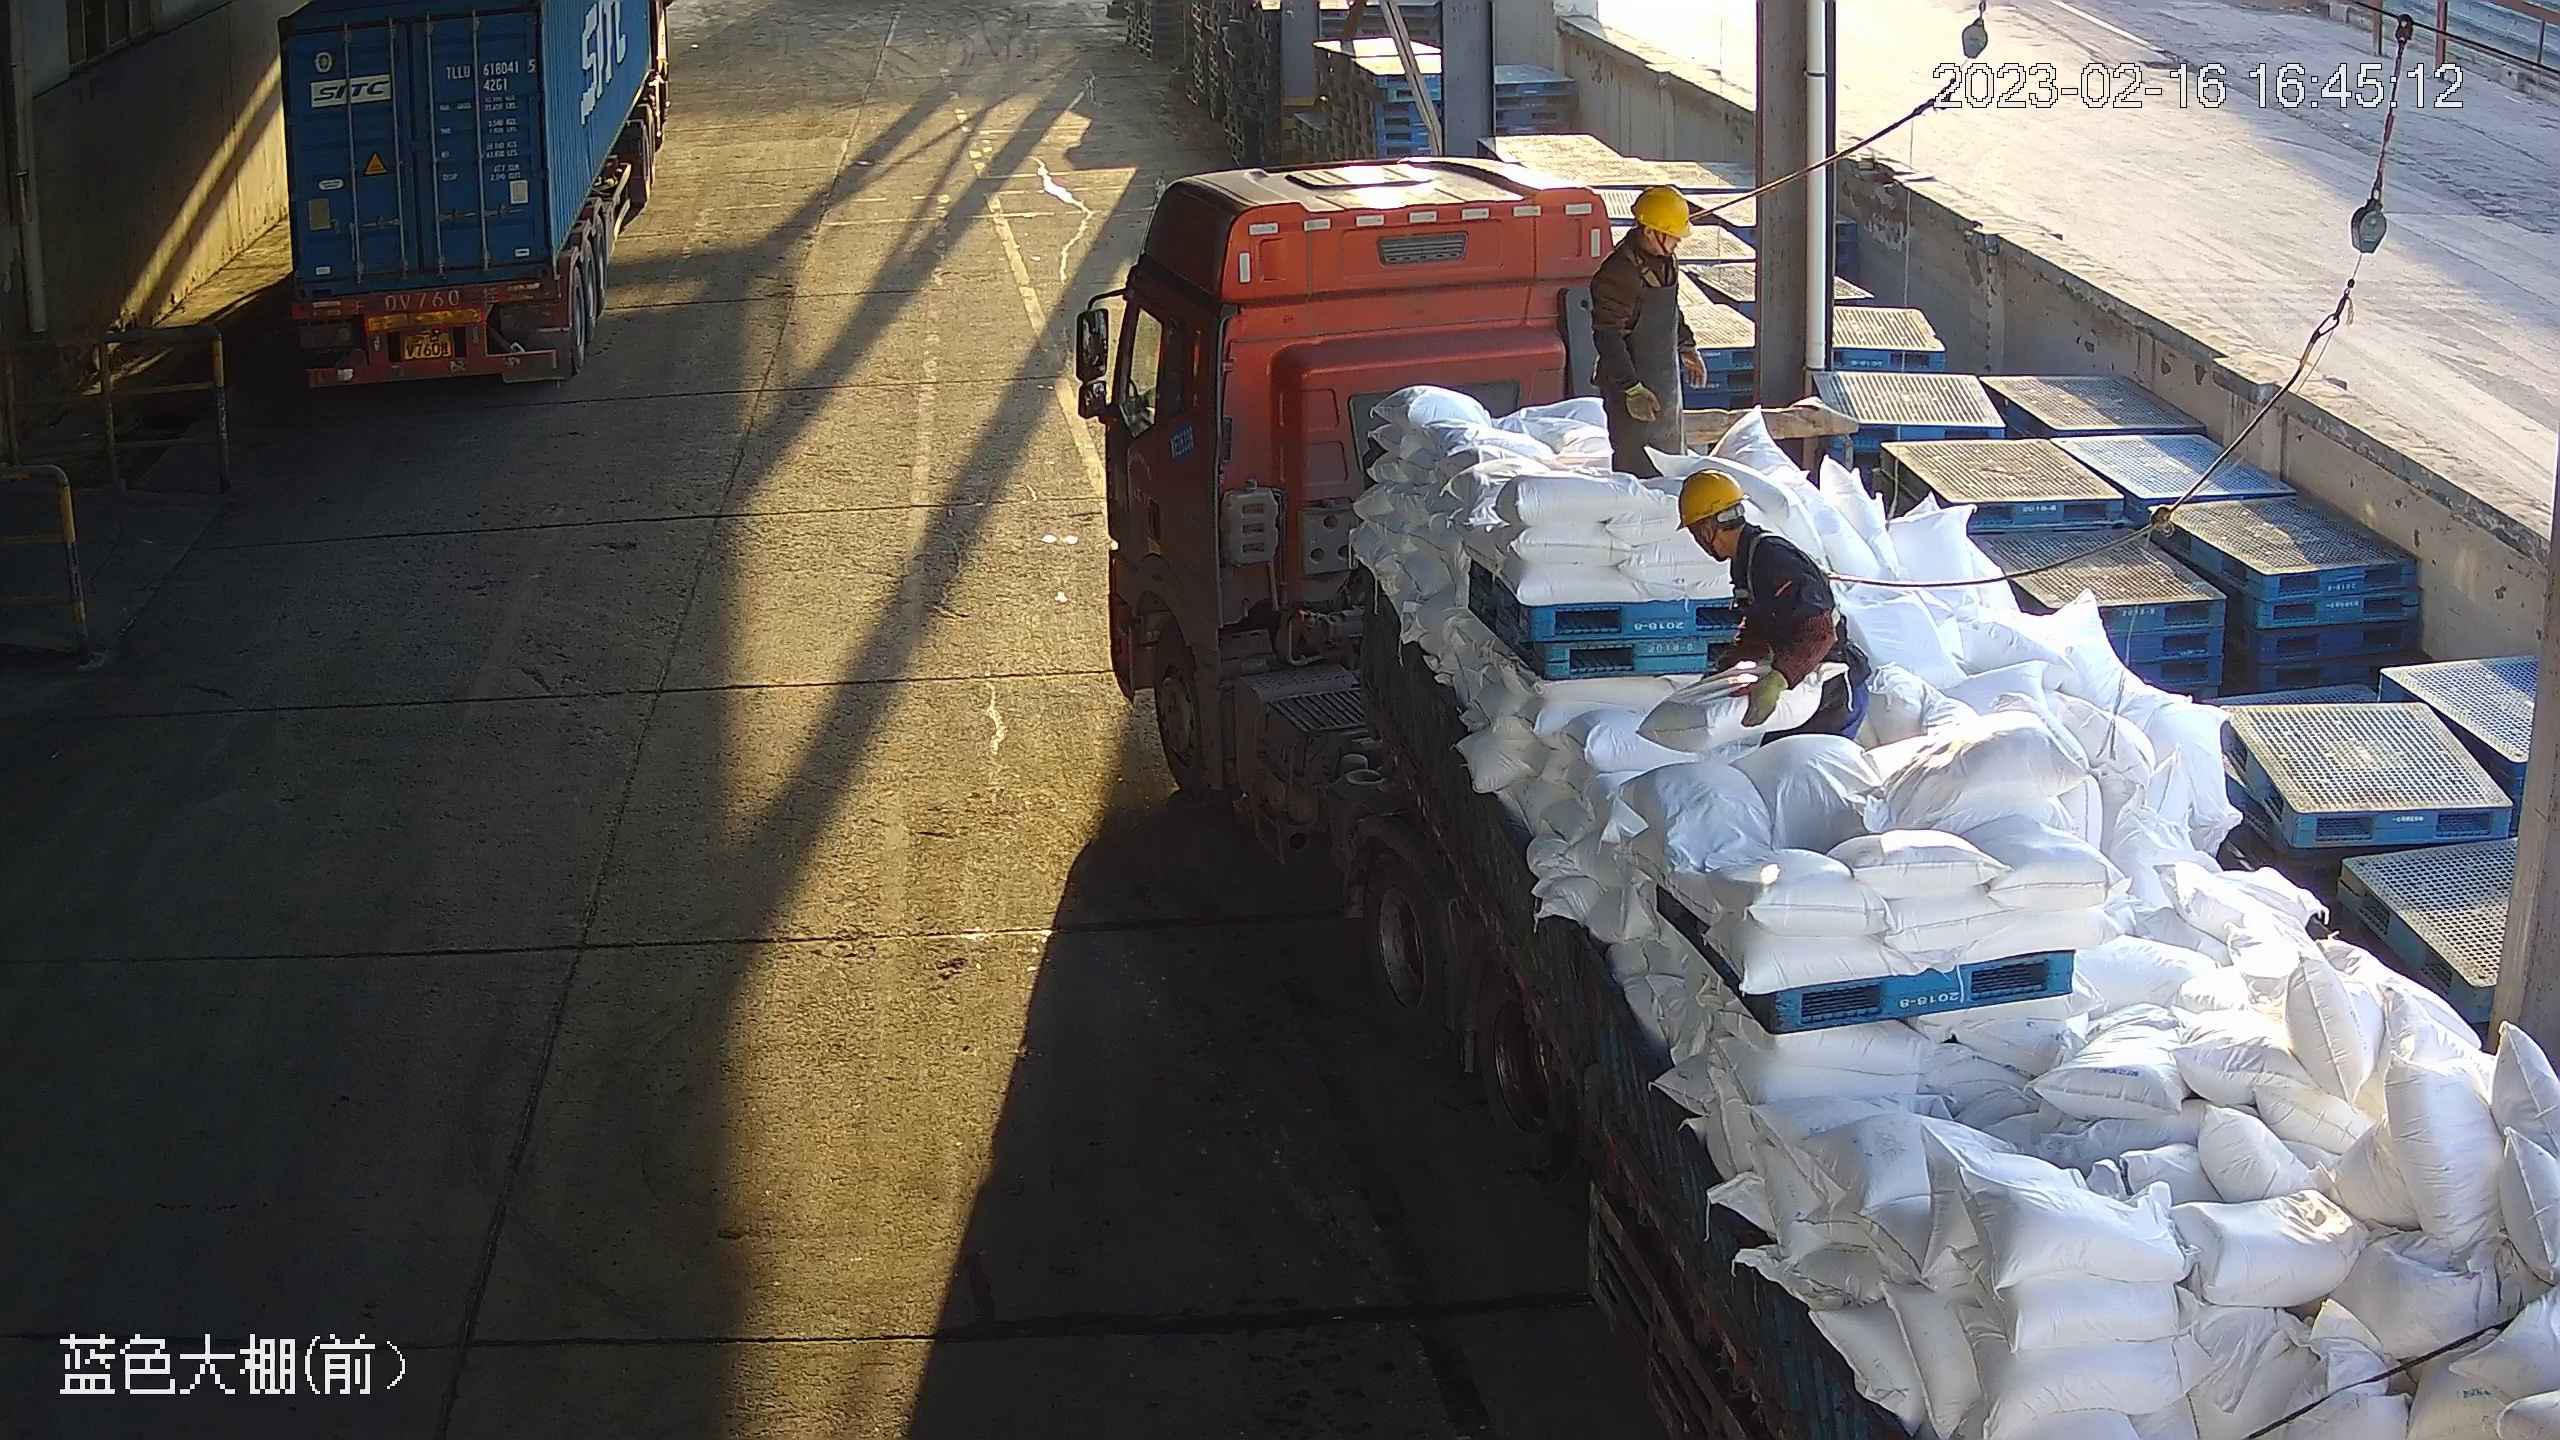belt: (1727, 531, 1852, 620), (1610, 223, 1698, 291)
head: (1673, 468, 1830, 588), (1590, 184, 1694, 292)
helmet: (1671, 468, 1750, 531), (1629, 183, 1692, 239)
people: (1673, 468, 1872, 751), (1586, 184, 1708, 482)
truck: (1107, 155, 2560, 1440), (275, 10, 687, 389)
